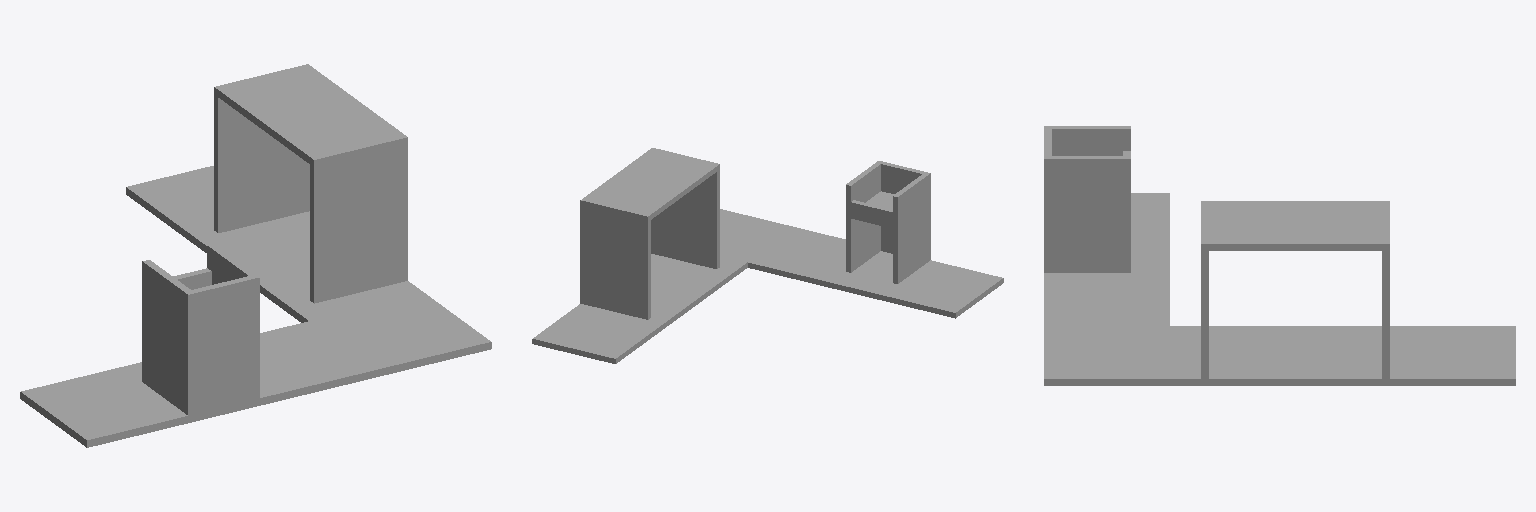
robot.urdf — narrow_tunnel:
<robot name="narrow_tunnel">
  <link name="narrow_tunnel_base_link">
    <visual>
      <origin rpy="0 0 3.14159" xyz="0.2 -0.52 -0.08"/>
      <geometry>
        <mesh filename="workshop.obj"  scale="0.0004 0.0004 0.0004"/>
      </geometry>
      <material name="tray_material">
        <color rgba="0.7 0.7 0.7 1"/>
      </material>
    </visual>
    <collision>
      <origin rpy="0 0 3.14159" xyz="0.2 -0.52 -0.08"/>
      <geometry>
        <mesh filename="workshop.obj" scale="0.0004 0.0004 0.0004"/>
      </geometry>
    </collision>
  </link>
</robot>

--- Render facts (derived) ---
The picture shows the robot from 3 angles, left to right: view 1: azimuth 30°, elevation 25°; view 2: azimuth 150°, elevation 25°; view 3: azimuth 270°, elevation 25°; orthographic projection.
Model narrow_tunnel with 1 links and 0 joints (none), rooted at narrow_tunnel_base_link, posed all joints at 0.
Visible links, largest first — view 1: narrow_tunnel_base_link; view 2: narrow_tunnel_base_link; view 3: narrow_tunnel_base_link.
Link boxes in pixels (x1,y1,x2,y2): narrow_tunnel_base_link: (20,64,491,447); narrow_tunnel_base_link: (532,148,1003,363); narrow_tunnel_base_link: (1044,126,1515,385).
Bounding box of the posed robot: 1.12 × 1.2 × 0.4 m (x, y, z).
Meshes: 1 distinct files referenced, 1 mesh visuals loaded (1 OBJ).